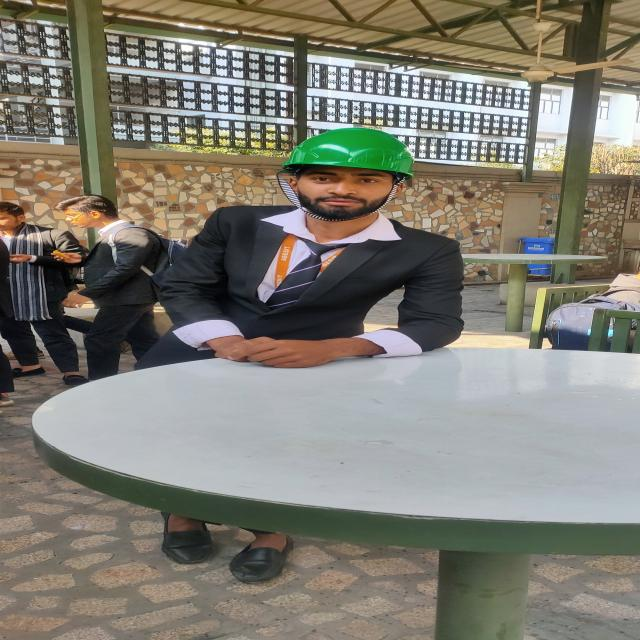no jacket: (159, 128, 463, 368)
unsafe: (56, 195, 162, 378), (1, 201, 84, 385)
